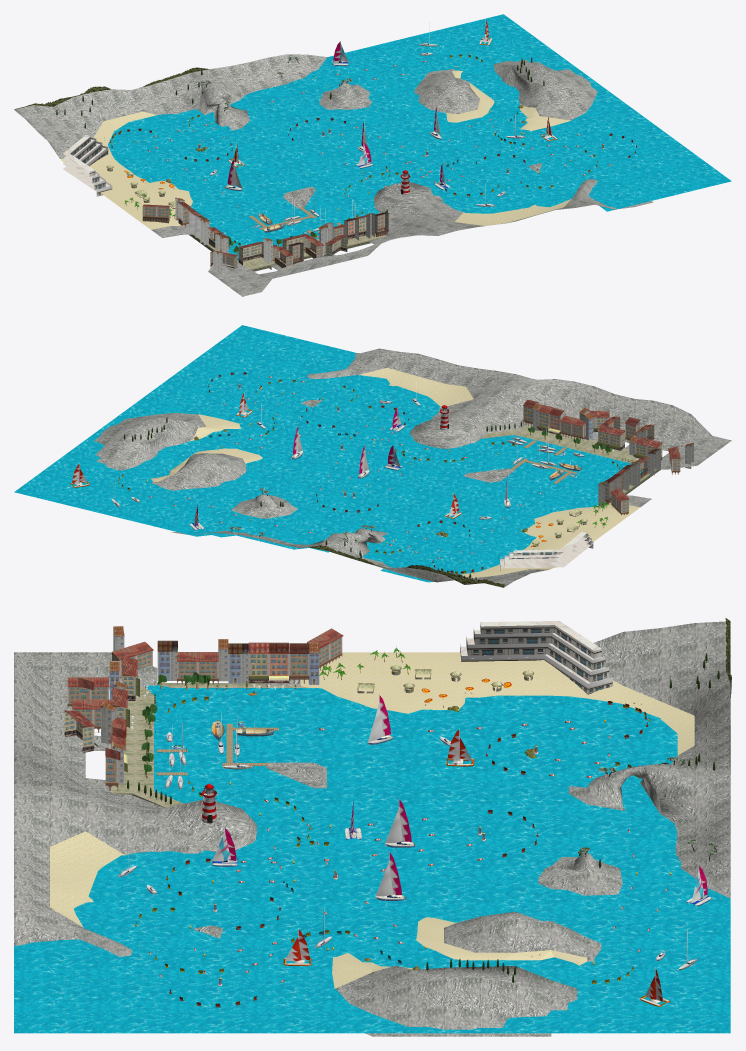
Rendered from Cote d'azur.glb.
3 views of the same model, one above another, from view 1: azimuth 30°, elevation 25°; view 2: azimuth 150°, elevation 25°; view 3: azimuth 270°, elevation 25° (orthographic). The views are drawn at different scales.
Parts seen in each view (by area): view 1: Untitled* (×10), Untitled** (×3), Untitled (×2), plage 02, ilot1, trou, immeuble.obj 10*, plage 01, ilot1*, plage 03, maison grd.3dm 1; view 2: Untitled* (×11), Untitled** (×3), Untitled (×2), plage 02, ilot1, plage 01, immeuble.obj 10*, trou, ilot1*, maison grd.3dm 2, maison grd.3dm 1; view 3: Untitled* (×10), Untitled** (×3), Untitled (×2), plage 02, immeuble.obj 10*, ilot1, trou, plage 01, maison grd.3dm 1 (×4), maison 1.3dm 1 (×4), ilot1*, plage 03 (+4 smaller).
Part boxes in pixels (box(x1,y1,x2,y2)): Untitled* (×10): box(135, 55, 731, 296); Untitled** (×3): box(259, 14, 686, 193); Untitled (×2): box(14, 54, 327, 174); plage 02: box(60, 154, 192, 229); ilot1: box(414, 71, 479, 113); trou: box(182, 81, 250, 126); immeuble.obj 10*: box(63, 135, 112, 196); plage 01: box(455, 199, 570, 225); ilot1*: box(446, 70, 539, 122); plage 03: box(93, 111, 156, 154); maison grd.3dm 1: box(142, 204, 169, 223); Untitled* (×11): box(75, 325, 731, 587); Untitled** (×3): box(14, 358, 469, 531); Untitled (×2): box(171, 516, 548, 587); plage 02: box(497, 503, 639, 569); ilot1: box(158, 453, 246, 489); plage 01: box(359, 368, 473, 407); immeuble.obj 10*: box(500, 532, 593, 571); trou: box(302, 528, 385, 557); ilot1*: box(151, 427, 262, 481); maison grd.3dm 2: box(596, 425, 624, 450); maison grd.3dm 1: box(560, 415, 585, 440); Untitled* (×10): box(14, 652, 730, 1036); Untitled** (×3): box(154, 791, 730, 1033); Untitled (×2): box(503, 621, 730, 898); plage 02: box(300, 652, 587, 713); immeuble.obj 10*: box(460, 621, 612, 694); ilot1: box(444, 911, 587, 957); trou: box(587, 764, 694, 823); plage 01: box(50, 831, 125, 927); maison grd.3dm 1 (×4): box(67, 628, 343, 709); maison 1.3dm 1 (×4): box(157, 640, 309, 683); ilot1*: box(372, 917, 587, 972); plage 03: box(587, 680, 694, 755).
Size of the model in its own units: 526 by 38.84 by 421.
Materials: 44 (43 with a texture image).
